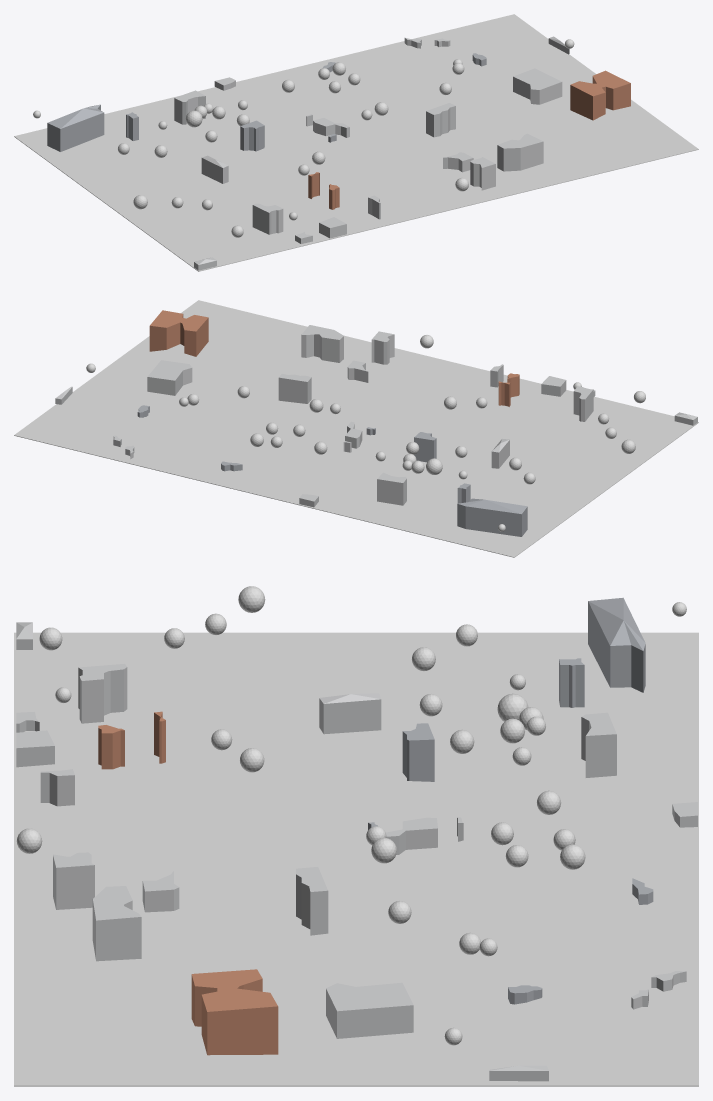
File: scene_af3e2900-4772-4d40-8ab6-bfdb9497eaa3.glb
3 views of the same model, one above another, from view 1: azimuth 30°, elevation 25°; view 2: azimuth 150°, elevation 25°; view 3: azimuth 270°, elevation 25° (orthographic). The views are drawn at different scales.
Parts seen in each view (by area): view 1: Ground_Base, B017, B005, B020, B013, B021, B016, B023, B012, B006, B014, B011 (+2 smaller); view 2: Ground_Base, B005, B017, B020, B013, B016, B006, B023, B021, B012, B025, B014; view 3: Ground_Base, B017, B013, B005, B020, B021, B014, B023, B006, B016, B012, B011 (+6 smaller).
Part boxes in pixels (x1,y1,x2,y2): Ground_Base: (14,14,698,271); B017: (570,70,630,120); B005: (47,104,104,151); B020: (497,133,543,171); B013: (513,68,562,104); B021: (252,203,283,234); B016: (426,103,455,137); B023: (470,157,495,190); B012: (240,120,264,151); B006: (174,90,205,124); B014: (201,155,228,183); B011: (313,118,349,137); Ground_Base: (14,300,698,557); B005: (457,498,527,536); B017: (149,310,208,356); B020: (301,325,343,362); B013: (147,360,192,395); B016: (278,373,311,403); B006: (377,472,406,505); B023: (371,331,394,364); B021: (573,386,593,421); B012: (414,432,436,462); B025: (541,376,566,396); B014: (491,438,509,468); Ground_Base: (14,632,698,1086); B017: (191,969,278,1055); B013: (326,982,413,1038); B005: (588,597,645,692); B020: (92,886,141,961); B021: (78,663,127,723); B014: (319,693,381,734); B023: (53,852,94,909); B006: (581,712,616,777); B016: (296,867,328,935); B012: (402,723,434,781); B011: (386,817,437,854).
Bounding box in the file's own units: 386 × 23.94 × 247.
